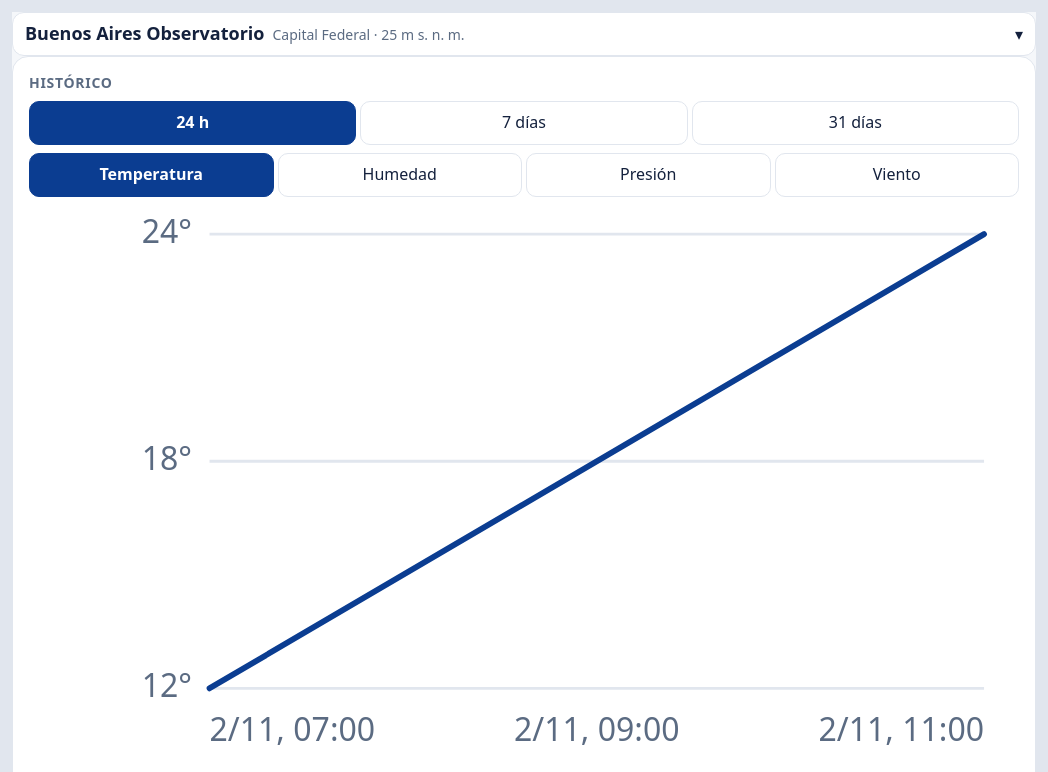
Test: HistoryScreen › cambiar el período pide ese rango
The image size is (1048, 772).
Click the button "7 días": (524, 123) [360, 101, 688, 145]
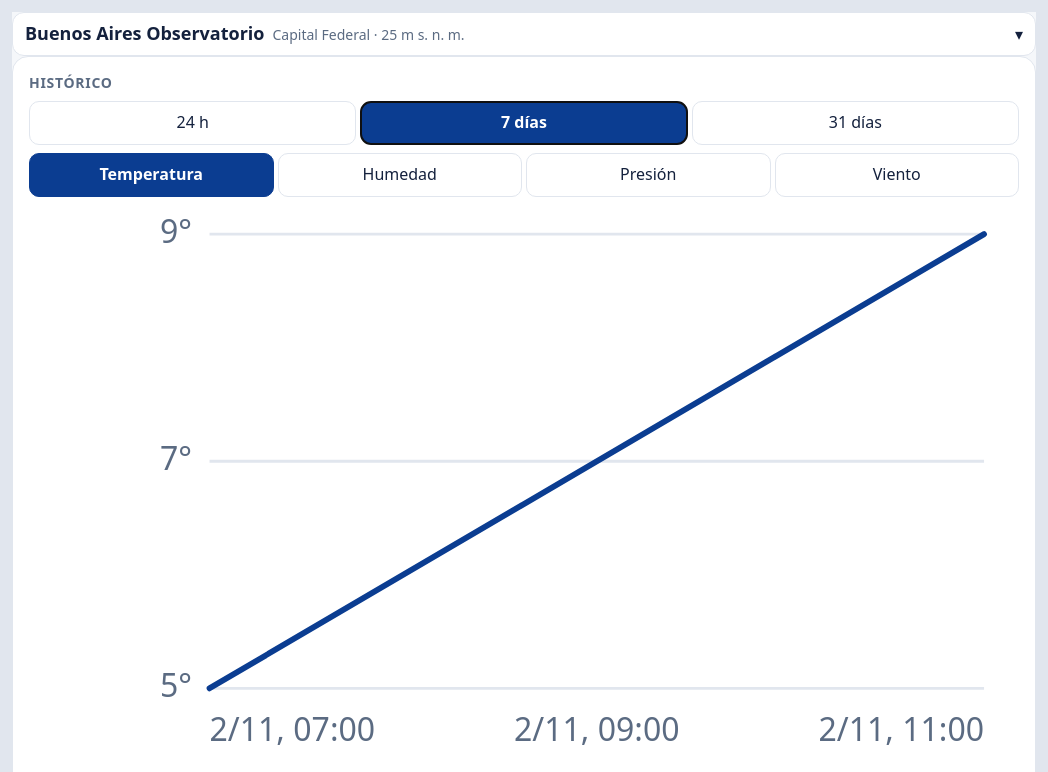
Now the picture named "últimos 7 días: mínimo 5°, máximo 9°" is shown
